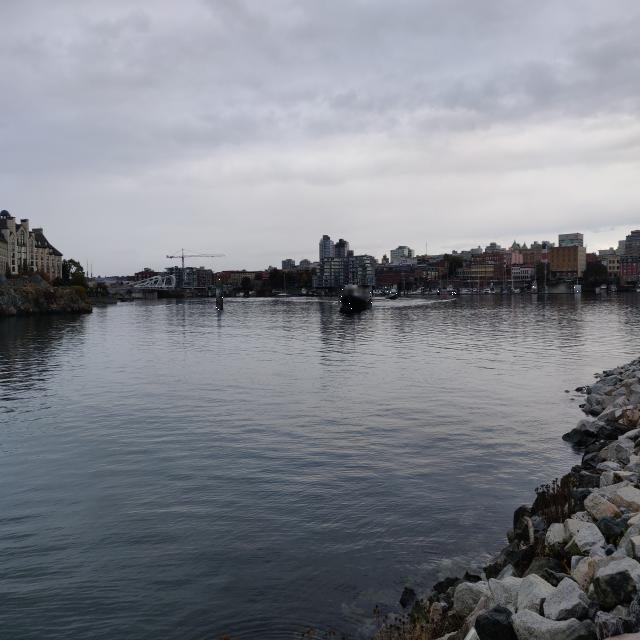boat: (338, 286, 372, 310), (548, 283, 569, 293), (385, 289, 398, 299), (531, 279, 539, 293), (600, 284, 608, 292), (574, 285, 581, 294)
mark: (216, 278, 223, 310)
skiff: (436, 291, 456, 295)
